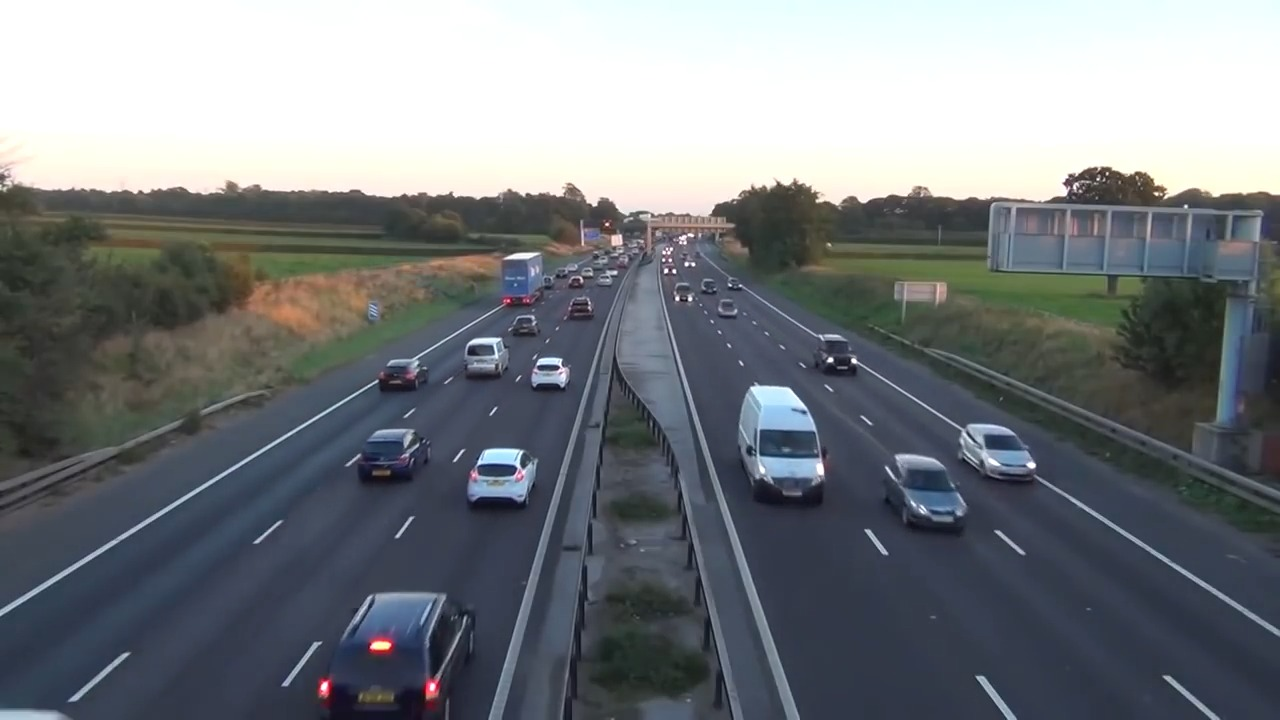truck: (497, 245, 545, 303)
